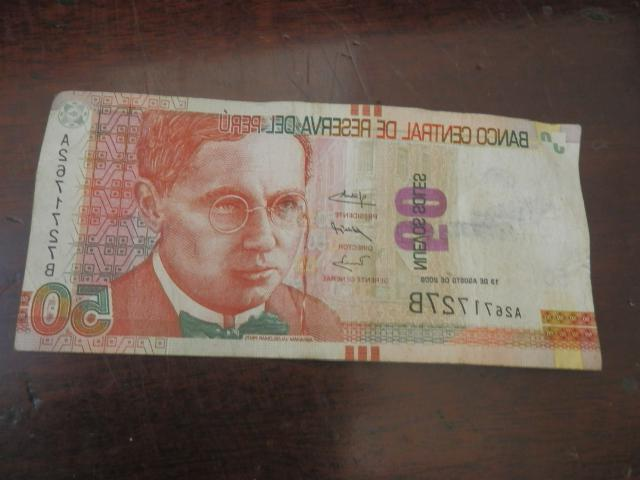B50: (16, 90, 603, 370)
